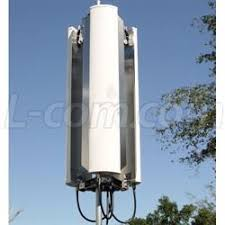sa: (81, 5, 125, 191)
